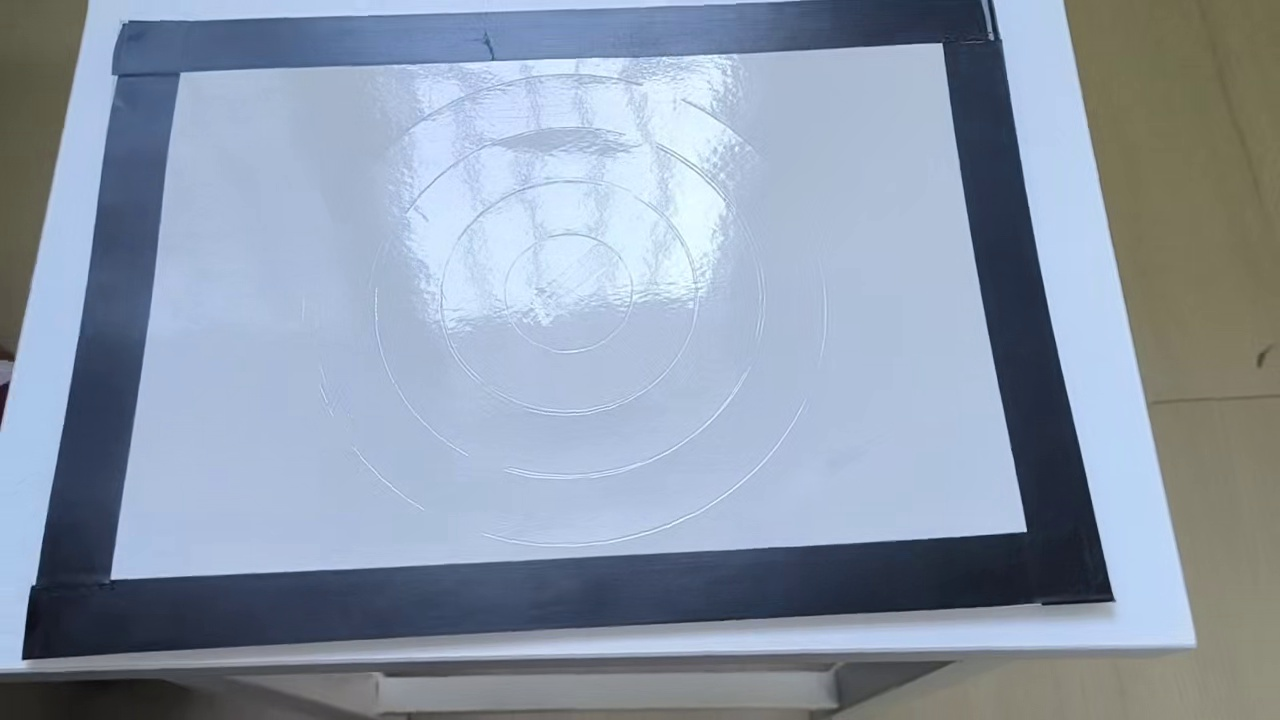board: (26, 9, 1117, 660)
